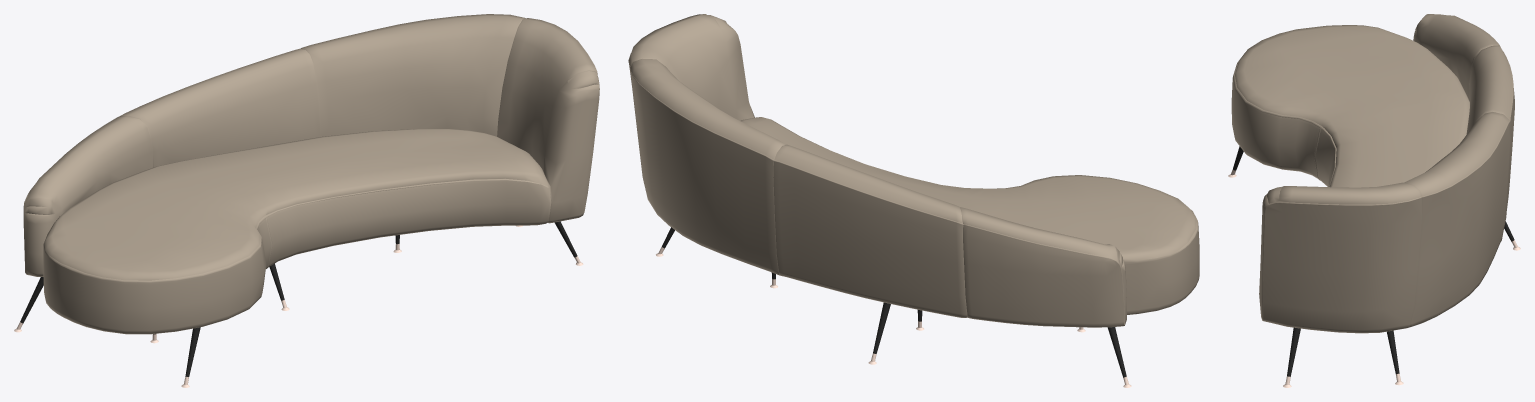
Rendered from canape.glb.
3 views of the same model, side by side, from view 1: azimuth 30°, elevation 25°; view 2: azimuth 150°, elevation 25°; view 3: azimuth 270°, elevation 25° (orthographic). The views are drawn at different scales.
Visible parts, largest first — view 1: GlamVelvetSofa_fabric, GlamVelvetSofa_legs; view 2: GlamVelvetSofa_fabric, GlamVelvetSofa_legs; view 3: GlamVelvetSofa_fabric, GlamVelvetSofa_legs.
Part boxes in pixels (<box>): GlamVelvetSofa_fabric: <box>23,14,599,334</box>; GlamVelvetSofa_legs: <box>20,221,577,376</box>; GlamVelvetSofa_fabric: <box>628,14,1199,327</box>; GlamVelvetSofa_legs: <box>662,227,1126,377</box>; GlamVelvetSofa_fabric: <box>1231,14,1514,333</box>; GlamVelvetSofa_legs: <box>1233,146,1514,376</box>.
Size of the model in its own units: 2.19 by 0.7876 by 1.02.
